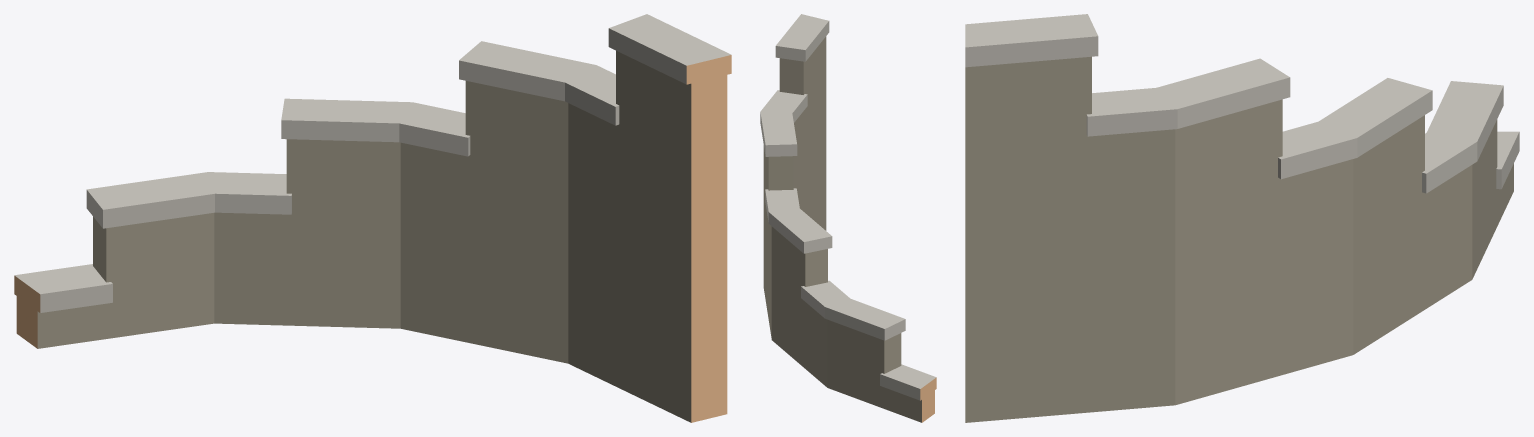
The model's file is Tiered_Retaining_Wall_Stepped_Curve_Tall_3x3.glb.
The picture shows the model from 3 angles, left to right: view 1: azimuth 30°, elevation 25°; view 2: azimuth 150°, elevation 25°; view 3: azimuth 270°, elevation 25°; orthographic projection. The views are drawn at different scales.
Parts seen in each view (by area): view 1: Tiered_Retaining_Wall_Stepped_Curve_Tall_3x3; view 2: Tiered_Retaining_Wall_Stepped_Curve_Tall_3x3; view 3: Tiered_Retaining_Wall_Stepped_Curve_Tall_3x3.
Part boxes in pixels (<box>): Tiered_Retaining_Wall_Stepped_Curve_Tall_3x3: <box>14,14,731,422</box>; Tiered_Retaining_Wall_Stepped_Curve_Tall_3x3: <box>760,14,936,422</box>; Tiered_Retaining_Wall_Stepped_Curve_Tall_3x3: <box>965,14,1519,422</box>.
Size of the model in its own units: 316 by 238 by 316.
